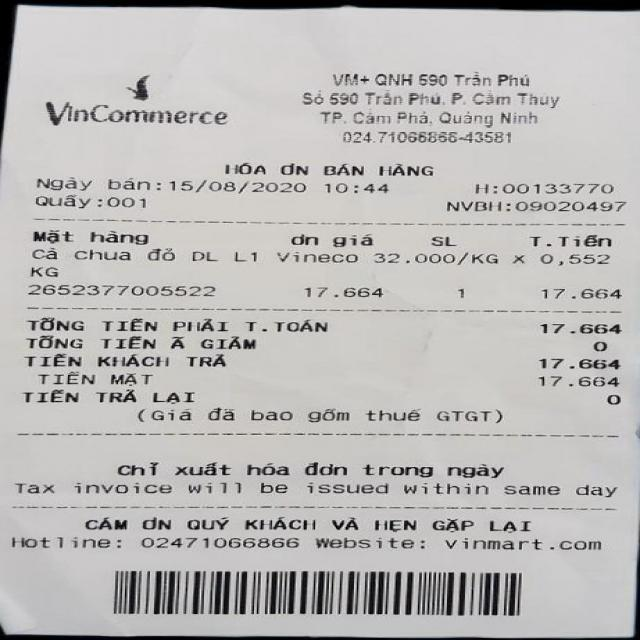Date: (160, 176, 312, 197)
Store_Name: (36, 66, 249, 139)
Total_Amount: (6, 306, 634, 338)
